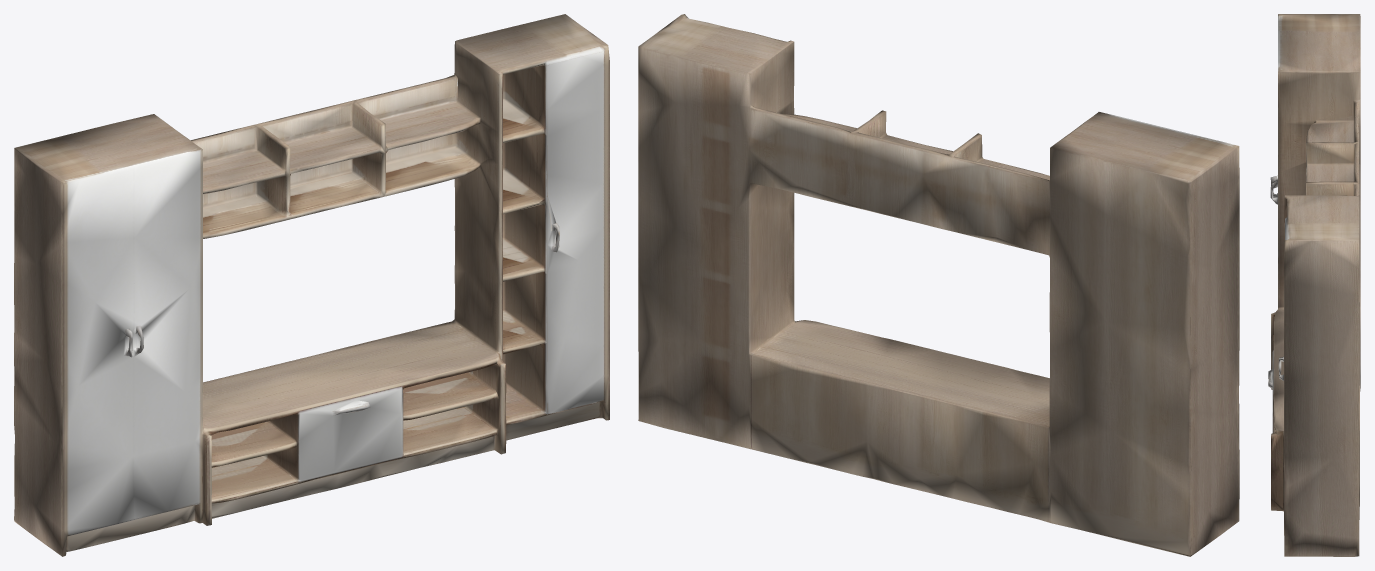
The model's file is sofa.glb.
The picture shows the model from 3 angles, left to right: view 1: azimuth 30°, elevation 25°; view 2: azimuth 150°, elevation 25°; view 3: azimuth 270°, elevation 25°; orthographic projection. The views are drawn at different scales.
Visible parts, largest first — view 1: Mesh1.0; view 2: Mesh1.0; view 3: Mesh1.0.
Part boxes in pixels (<box>): Mesh1.0: <box>14,14,609,556</box>; Mesh1.0: <box>638,14,1239,556</box>; Mesh1.0: <box>1268,14,1360,556</box>.
Bounding box in the file's own units: 1.91 × 1.24 × 0.3287.
1 material, 1 textured.
